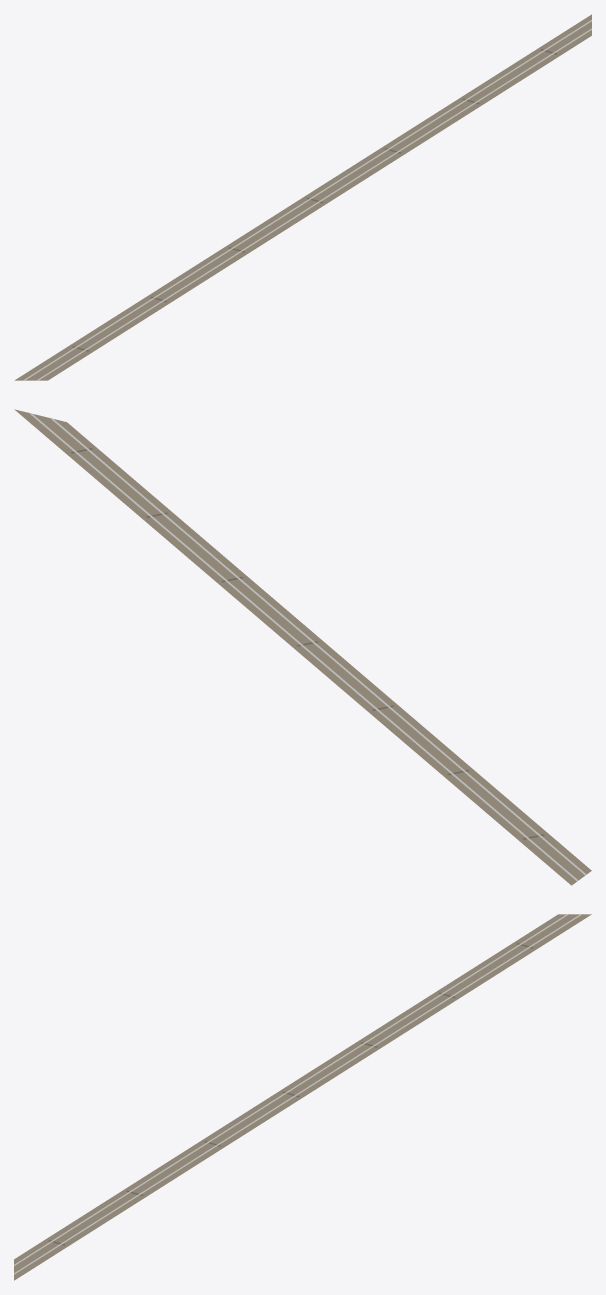
3 views of the same model, one above another, from view 1: azimuth 90°, elevation 25°; view 2: azimuth 150°, elevation 25°; view 3: azimuth 270°, elevation 25° (orthographic). The views are drawn at different scales.
Parts seen in each view (by area): view 1: rail; view 2: rail; view 3: rail.
Boxes of the visible parts, x1,y1,x2,y2 form: rail: (14,14,591,380); rail: (14,409,591,885); rail: (14,914,591,1280).
Size of the model in its own units: 111 by 0.04 by 73.92.
